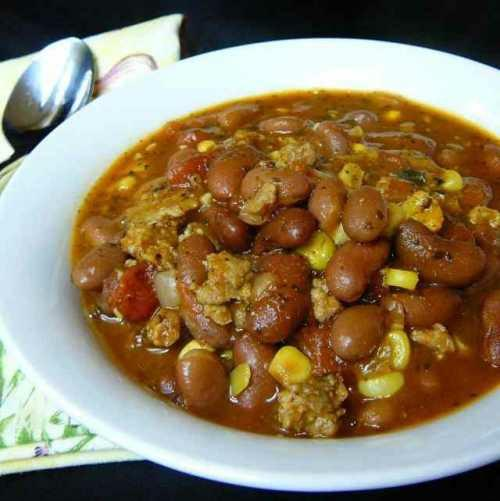RajmaCurry: (79, 95, 500, 434)
